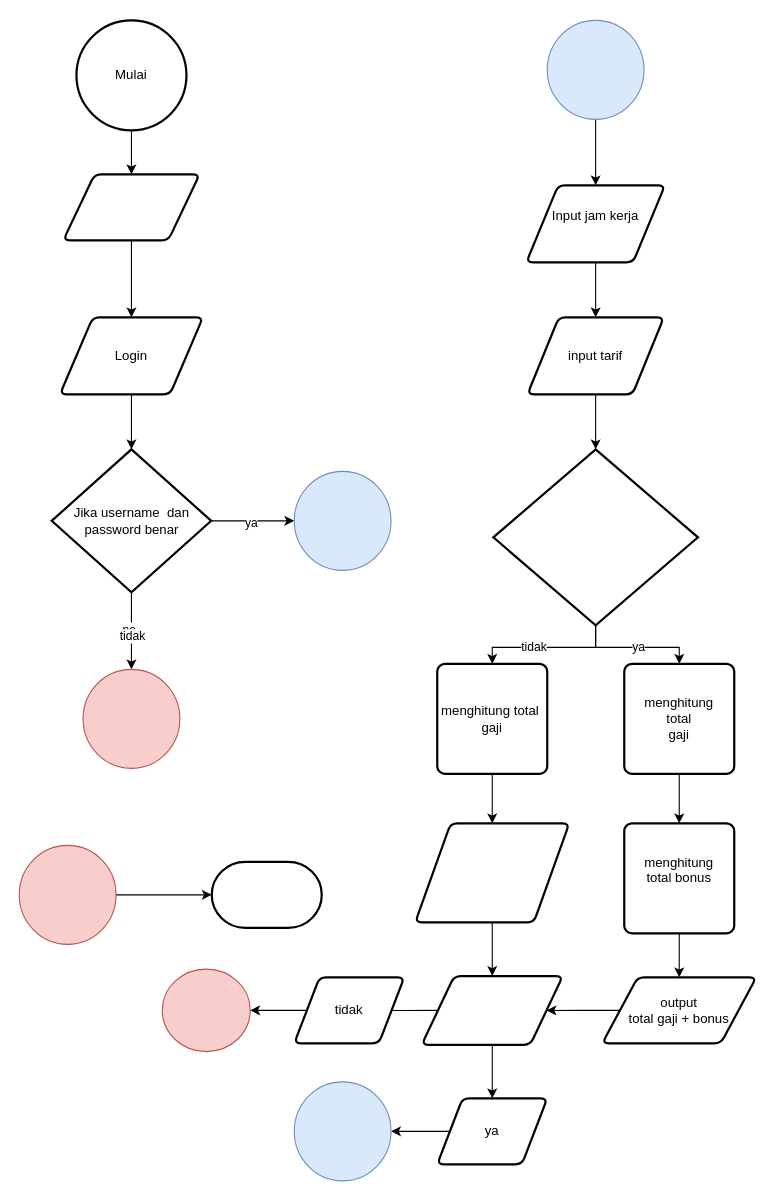
This 777x1200 diagram has some shape labels left out. The shapes that lost their labels are listed below. From the top down, each one's box as (x1, y1, x2, y2) in pixels, then its label:
(62, 173, 200, 241): regis
(492, 448, 698, 626): Jika jam kerja lebih dari 160 jam
(414, 822, 570, 923): output total gaji
(210, 860, 322, 928): selesai
(420, 974, 563, 1045): Input masukan pilihan
